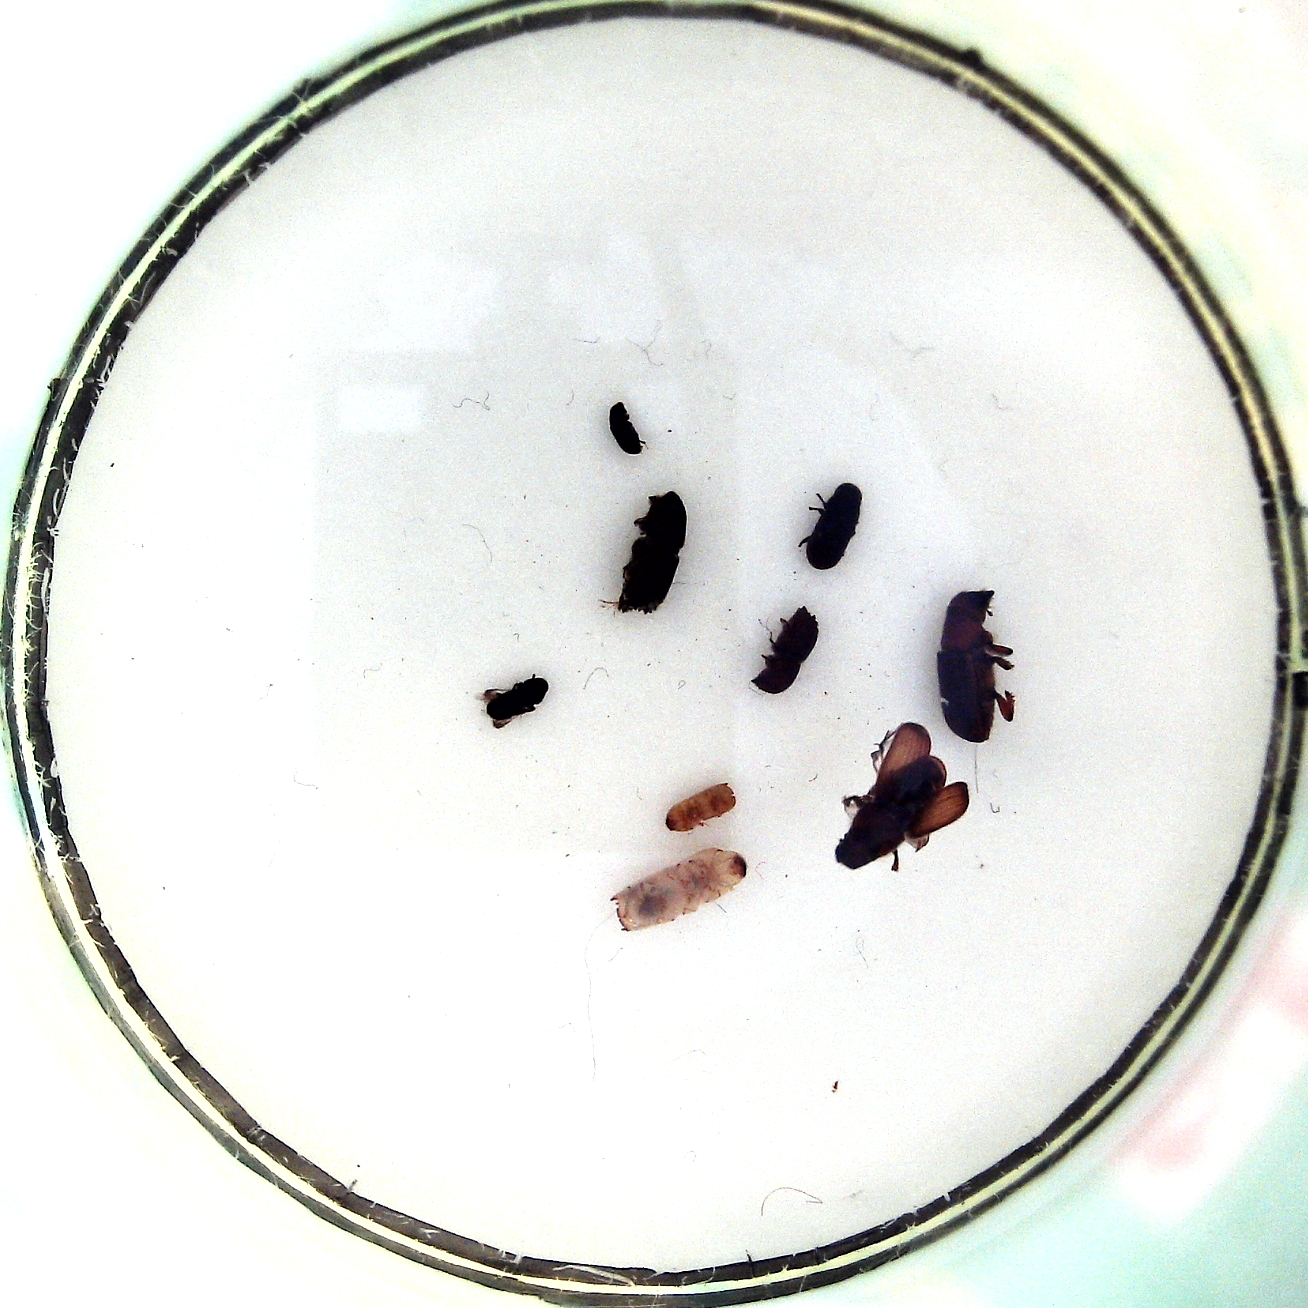Boerner: (601, 841, 751, 934)
Leconte: (818, 713, 977, 876), (928, 580, 1027, 750), (595, 488, 698, 616)
Linnaeus: (744, 602, 826, 700)
acuminatus: (659, 780, 744, 834)
armandi: (793, 477, 867, 573)
coleoptera: (470, 672, 555, 731), (605, 398, 650, 458)
